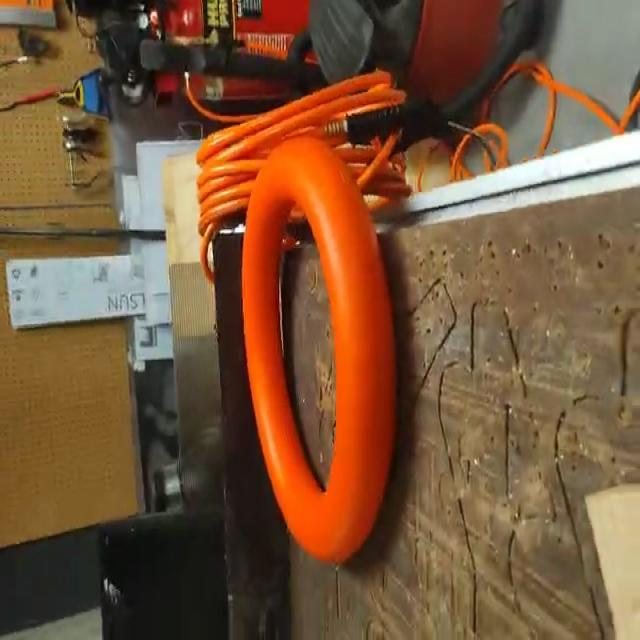note: (238, 136, 406, 562)
